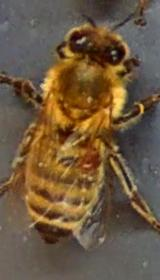varroa_mite: (75, 143, 106, 173)
